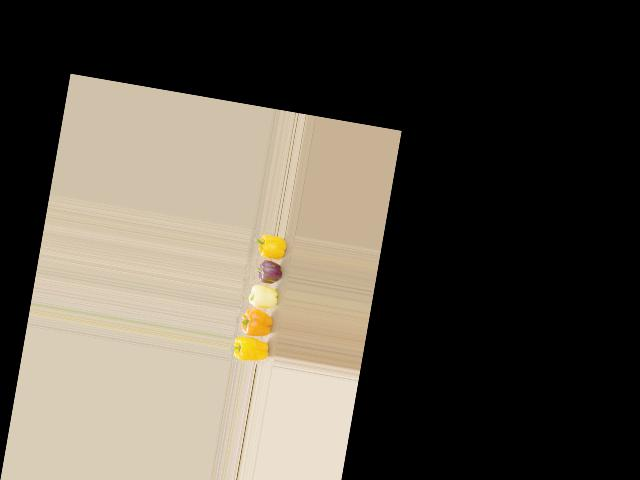bell_pepper: (251, 230, 294, 259)
